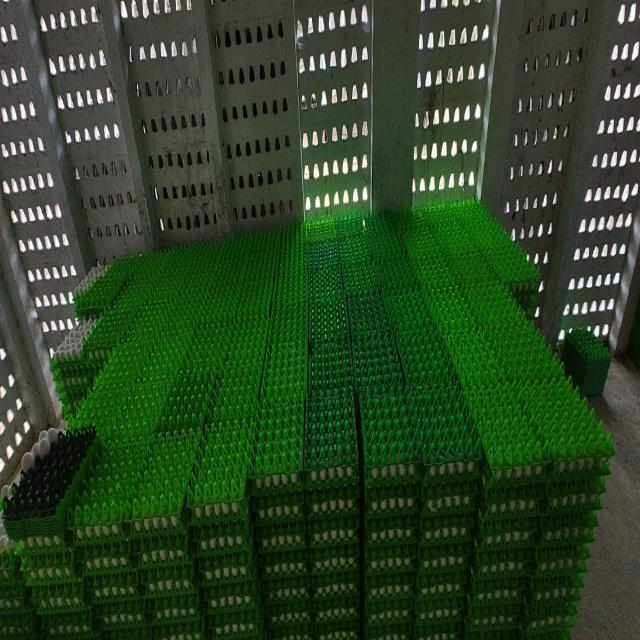egg_tray: (4, 429, 98, 633), (468, 388, 543, 630), (416, 386, 481, 633), (69, 438, 151, 632), (187, 423, 262, 635), (360, 394, 420, 632), (128, 431, 200, 626), (250, 402, 311, 632), (305, 395, 359, 631), (3, 428, 100, 539), (20, 536, 92, 633), (52, 319, 101, 413), (0, 522, 38, 637), (308, 336, 354, 399), (16, 587, 18, 592), (5, 520, 8, 523), (524, 446, 526, 448), (12, 542, 14, 543), (515, 409, 517, 410)
